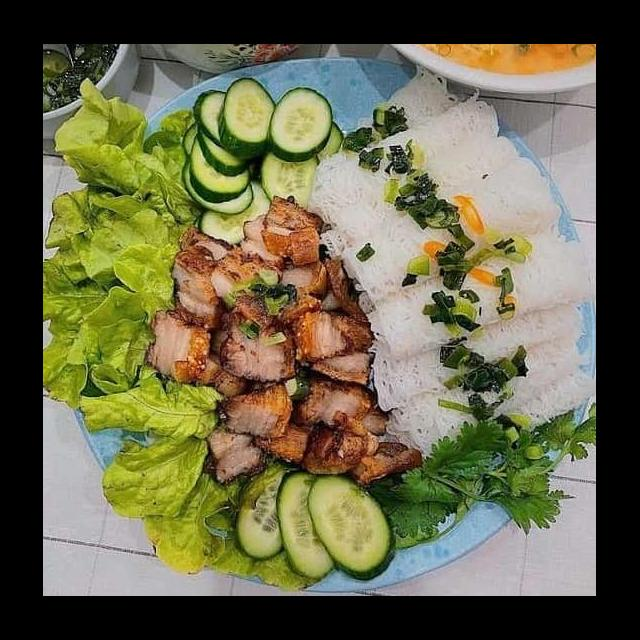banh hoi: (336, 152, 568, 309), (356, 229, 576, 365), (306, 84, 506, 229), (382, 333, 594, 469), (366, 288, 588, 416), (314, 132, 524, 261), (310, 60, 466, 190)
banh hoi heo quay: (66, 93, 596, 596)
thit heo quay: (206, 211, 292, 339), (298, 415, 428, 493), (165, 222, 242, 338), (210, 296, 300, 387), (282, 370, 383, 440), (140, 304, 217, 389), (284, 304, 382, 370), (256, 191, 332, 273), (216, 378, 300, 444), (200, 417, 272, 488)
